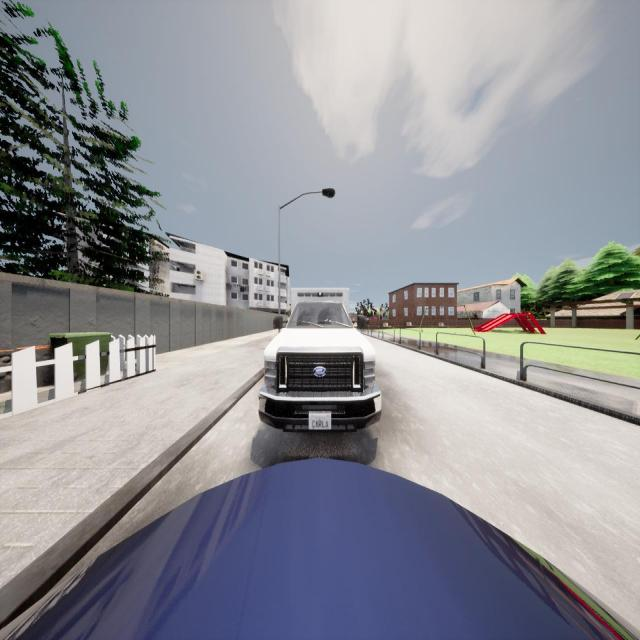Vehicle: (0, 457, 640, 640), (259, 286, 381, 431)
